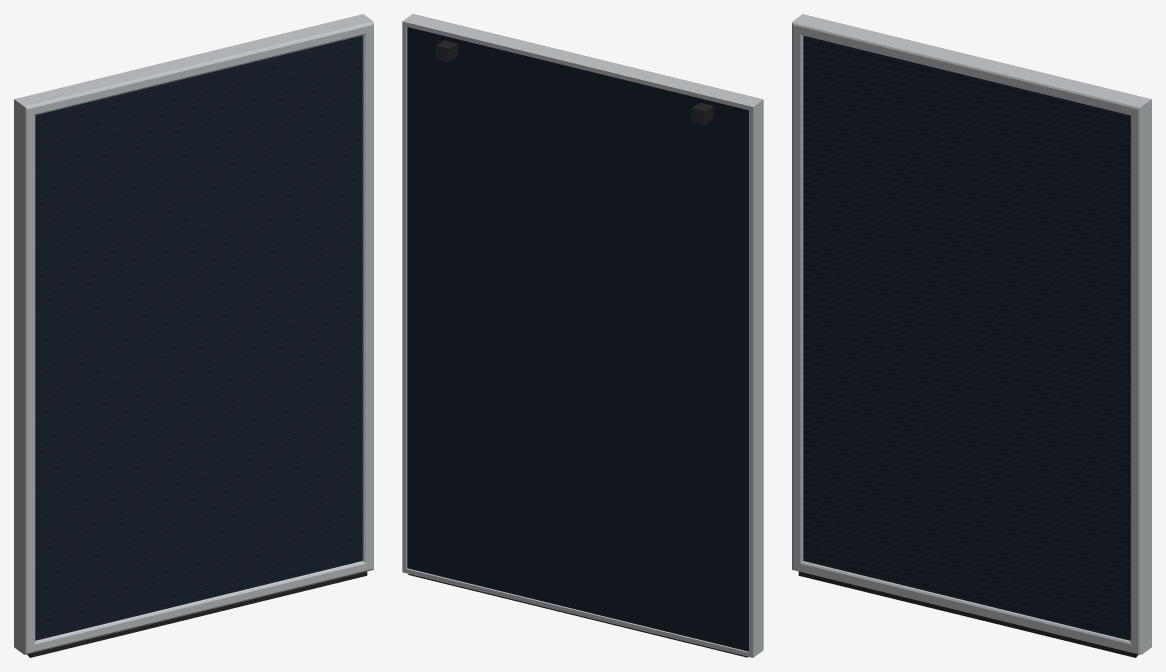
The model's file is coming-soon-letterboard.glb.
3 views of the same model, side by side, from view 1: azimuth 30°, elevation 25°; view 2: azimuth 150°, elevation 25°; view 3: azimuth 330°, elevation 25° (orthographic).
Parts seen in each view (by area): view 1: Grooved insert and rear sheet, Snap rail Left, Snap rail Top, Snap rail Right, Snap rail Bottom, Level counter contact sole; view 2: Grooved insert and rear sheet, Snap rail Left, Snap rail Top, Snap rail Right, Snap rail Bottom, Level counter contact sole; view 3: Grooved insert and rear sheet, Snap rail Right, Snap rail Top, Snap rail Left, Snap rail Bottom, Level counter contact sole.
Boxes of the visible parts, box(x1,y1,x2,y2) form: Grooved insert and rear sheet: box(35, 35, 362, 640); Snap rail Left: box(14, 99, 35, 654); Snap rail Top: box(14, 14, 373, 115); Snap rail Right: box(362, 23, 373, 569); Snap rail Bottom: box(26, 561, 373, 654); Level counter contact sole: box(27, 571, 367, 657); Grooved insert and rear sheet: box(407, 27, 748, 651); Snap rail Left: box(749, 99, 763, 657); Snap rail Top: box(402, 14, 763, 110); Snap rail Right: box(402, 22, 407, 571); Snap rail Bottom: box(402, 568, 752, 657); Level counter contact sole: box(408, 574, 747, 657); Grooved insert and rear sheet: box(803, 35, 1130, 640); Snap rail Right: box(1130, 99, 1151, 654); Snap rail Top: box(792, 14, 1151, 115); Snap rail Left: box(792, 23, 803, 569); Snap rail Bottom: box(792, 561, 1139, 654); Level counter contact sole: box(798, 571, 1138, 657).
Bounding box in the file's own units: 2.33 × 3.53 × 0.226.
